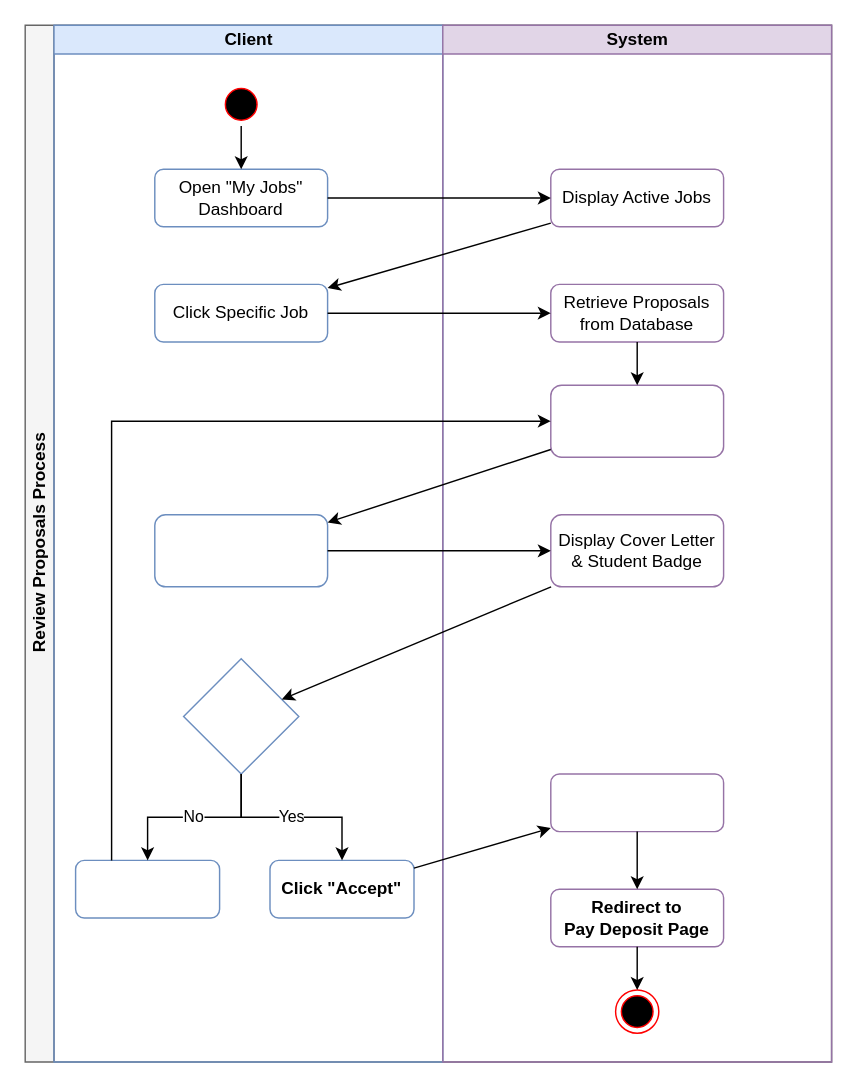
Some shapes in this 857 by 1087 pixel diagram are drawn without their labels. Each missing label, with the centre of its shape:
Accept?: point (240, 715)
Click "View Details" on a Candidate: point (240, 550)
Go Back to List: point (147, 888)
Show Proposal List (Name, Price, Rating): point (636, 420)
Update Status: "Accepted": point (636, 802)
